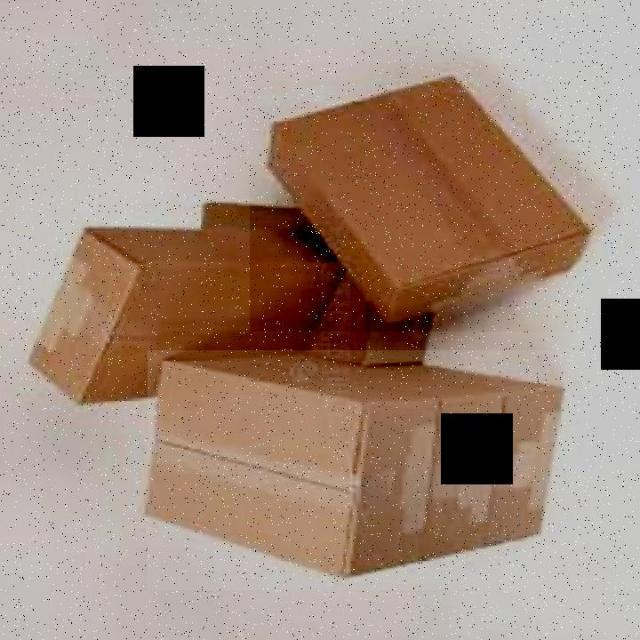box: (147, 350, 578, 590), (250, 63, 612, 332)
